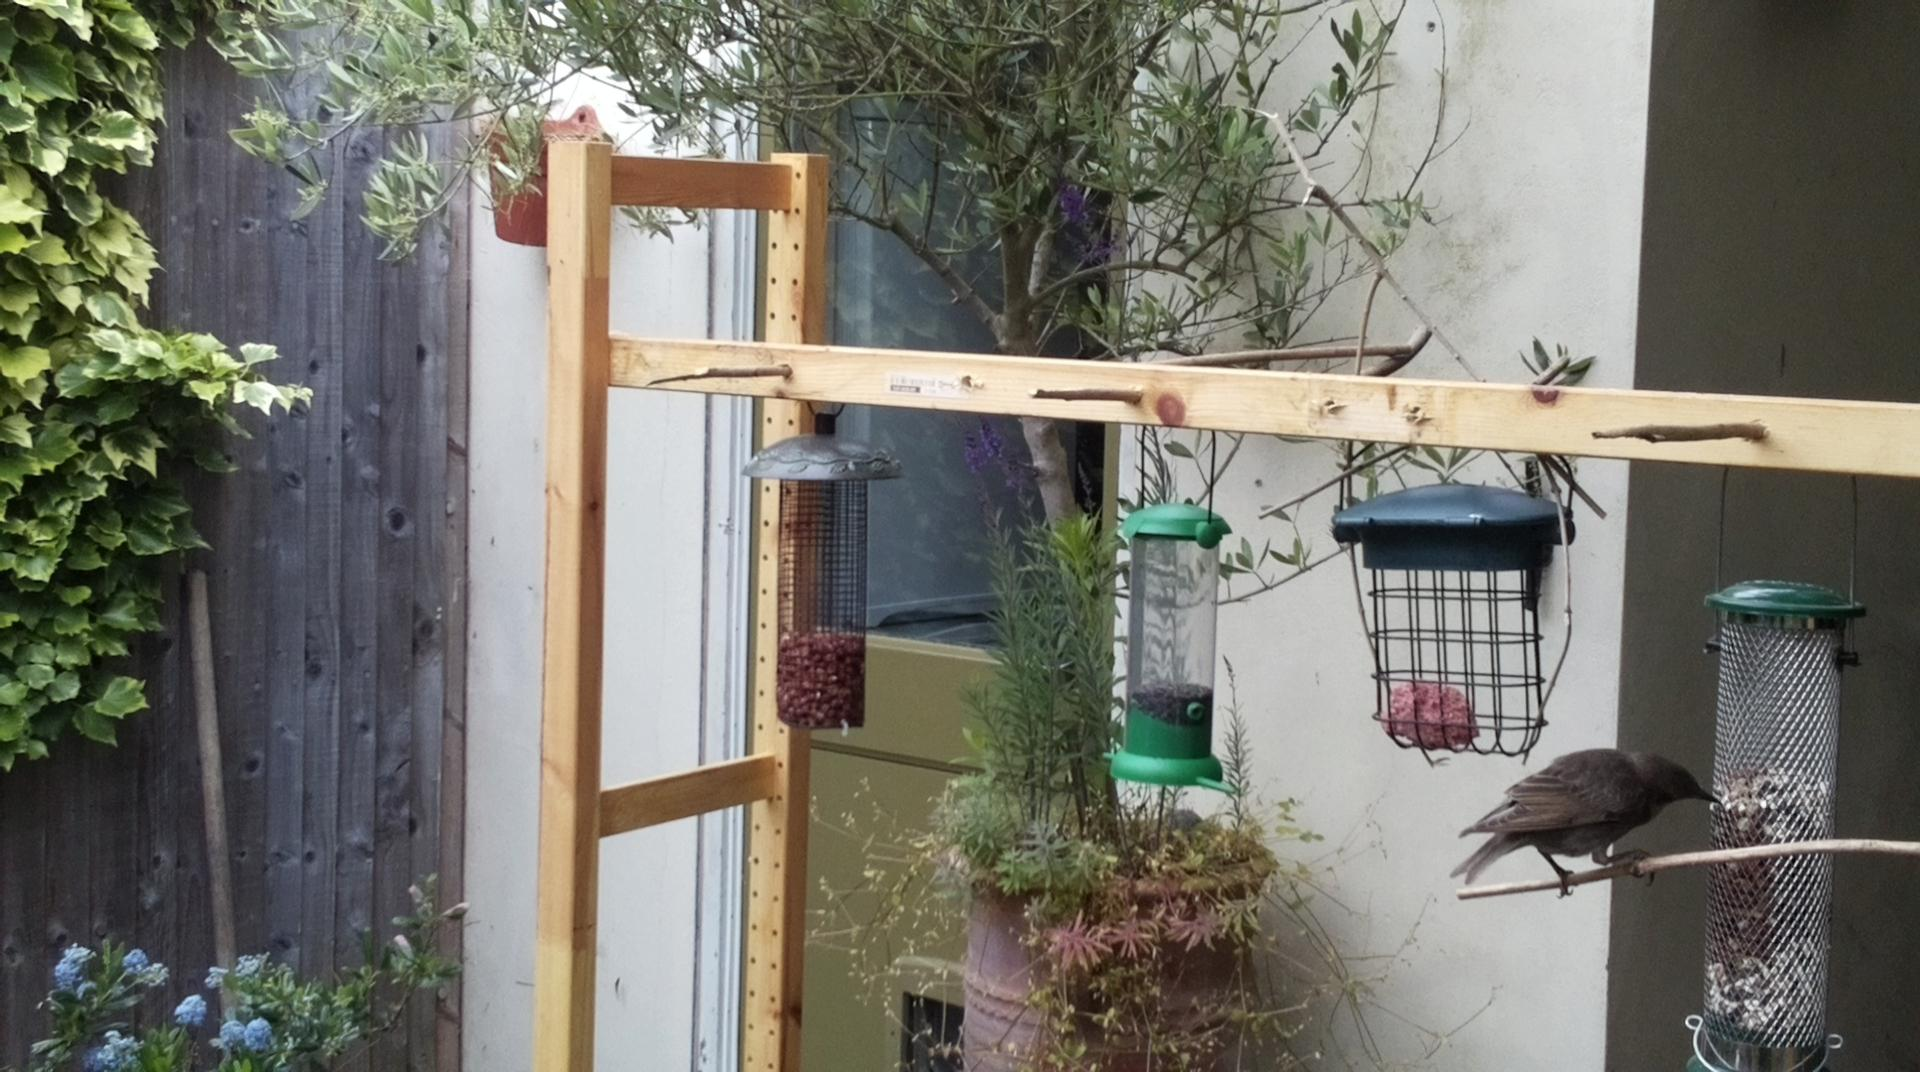starling: (1449, 748, 1720, 899)
